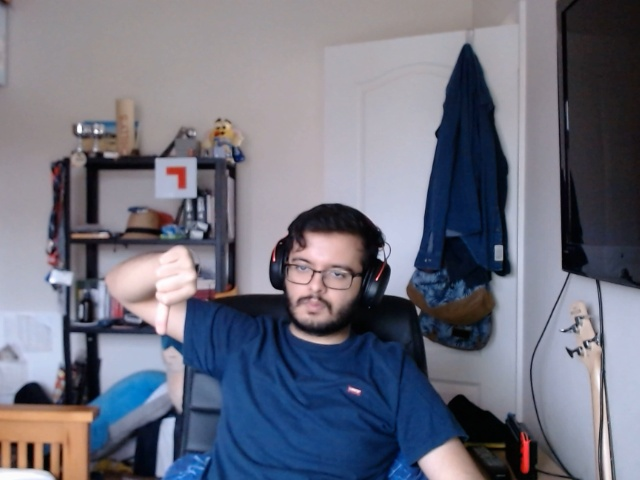Thumbs down: (145, 237, 210, 343)
